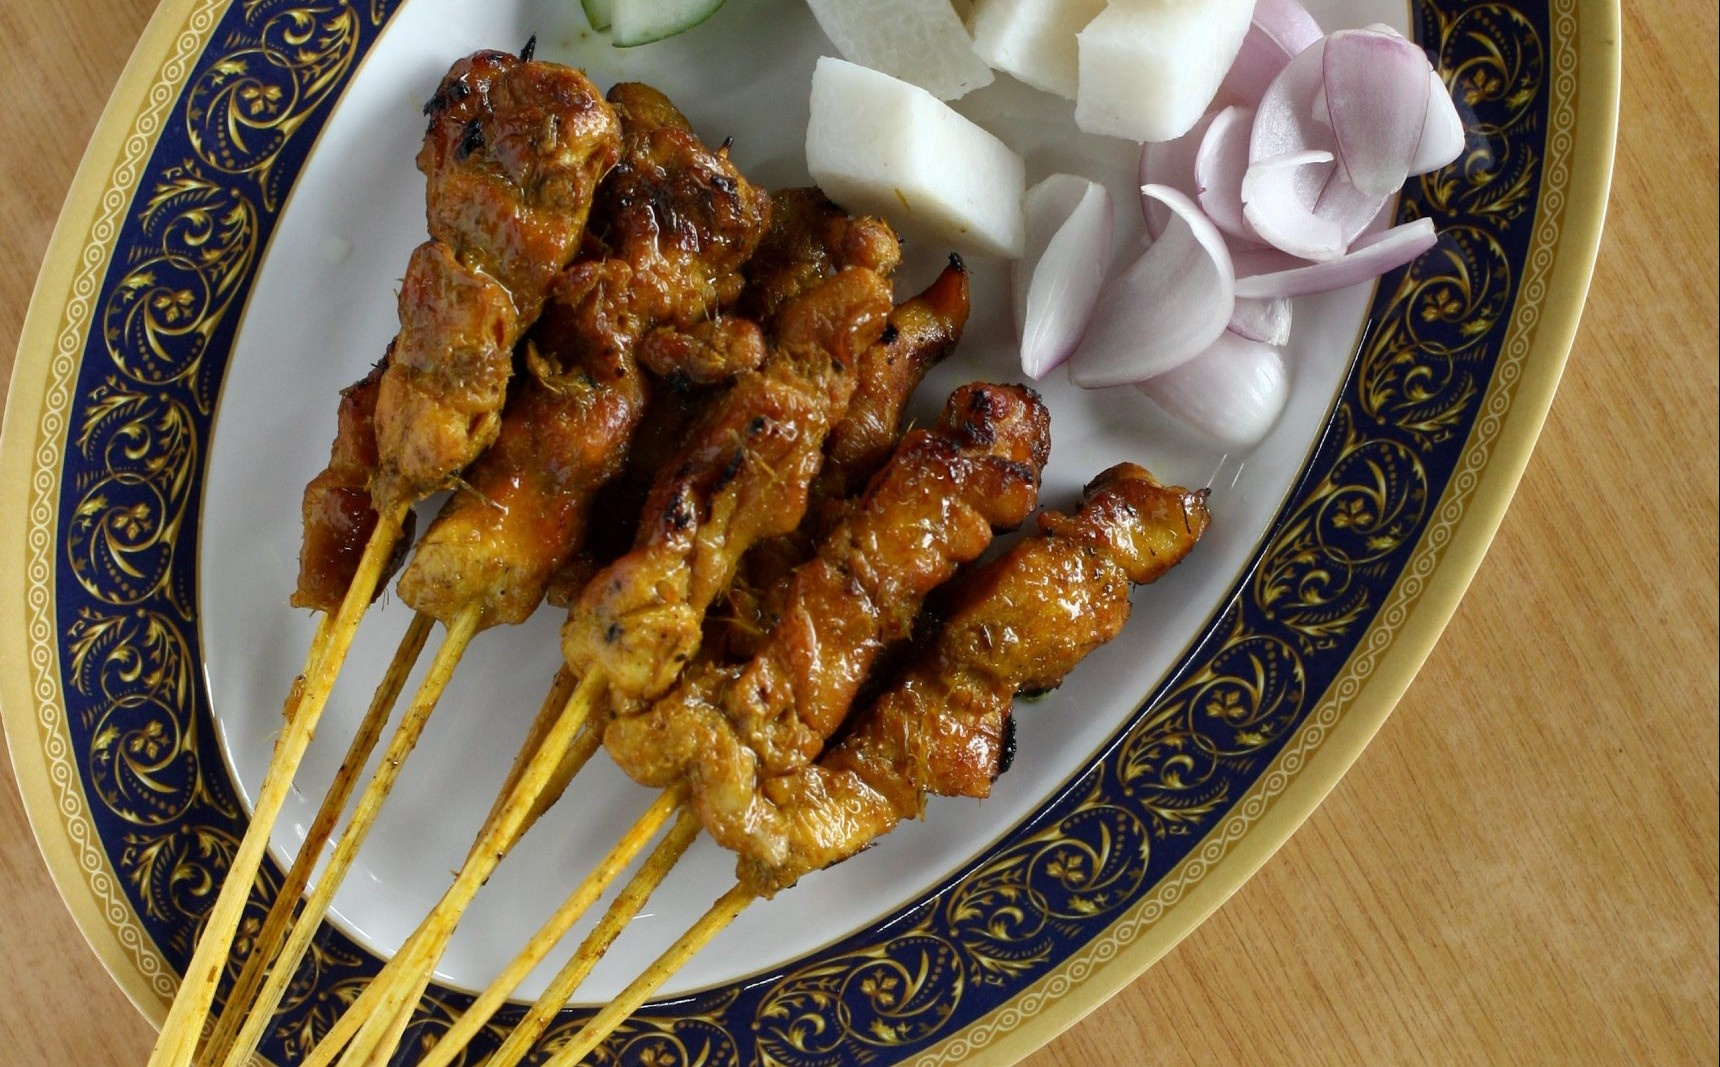sate: (136, 32, 1221, 1067)
